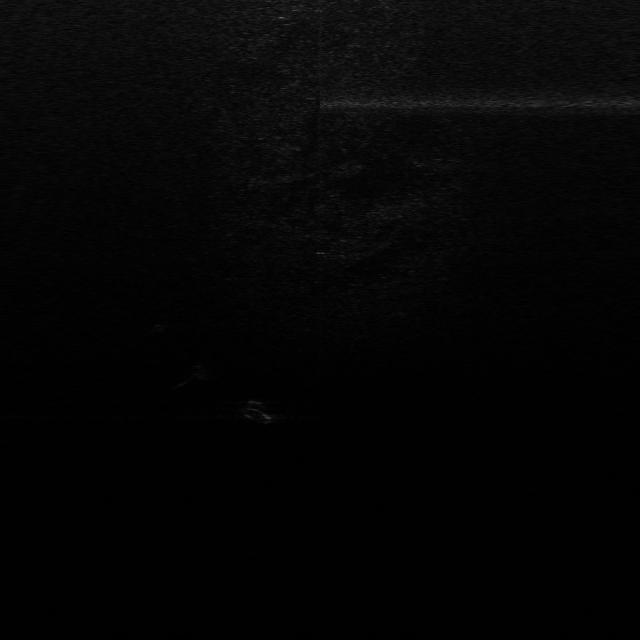ball: (187, 362, 213, 381)
circle cage: (147, 316, 172, 329)
tyre: (238, 400, 278, 423)
